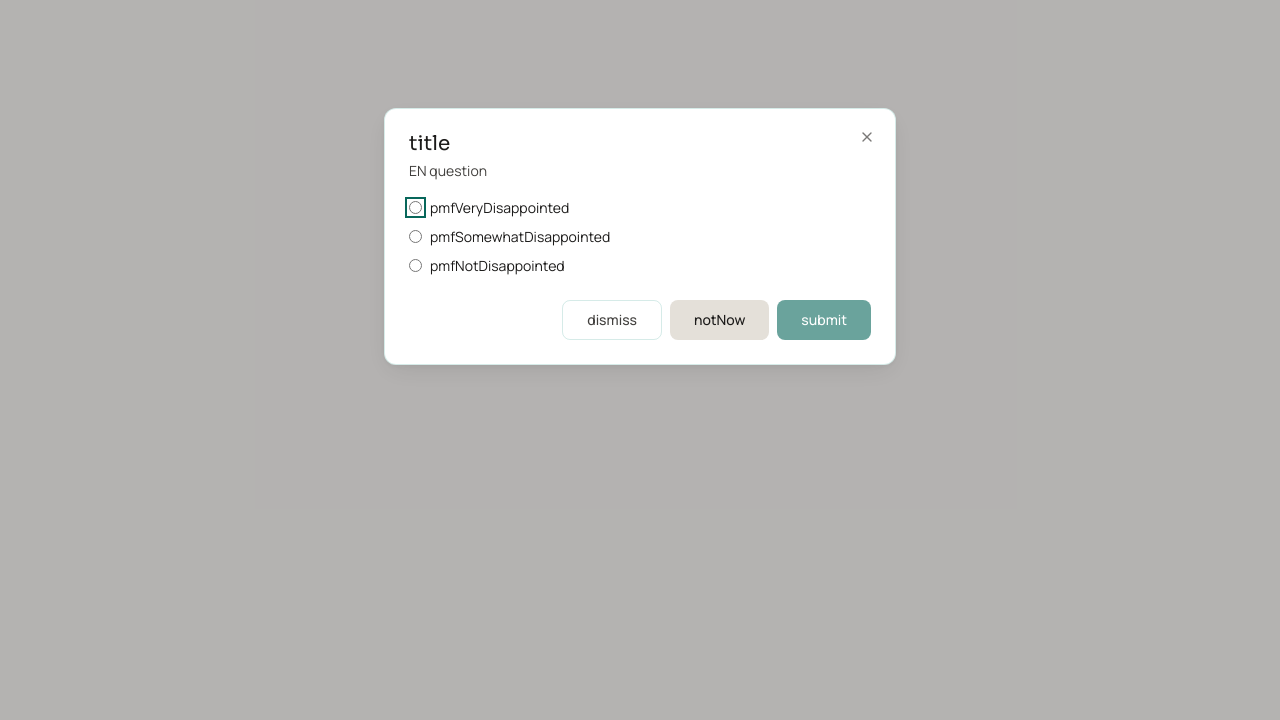
Test: SurveyInvitationPrompt › chains into the next pending invitation after submit (#444 follow-up)
This screenshot has width=1280, height=720.
Check: the text "EN question" is shown, box x1=409 y1=161 x2=487 y2=180
Click the radio button labelled "pmfVeryDisappointed". click: click(416, 208)
box: x1=409 y1=201 x2=422 y2=214
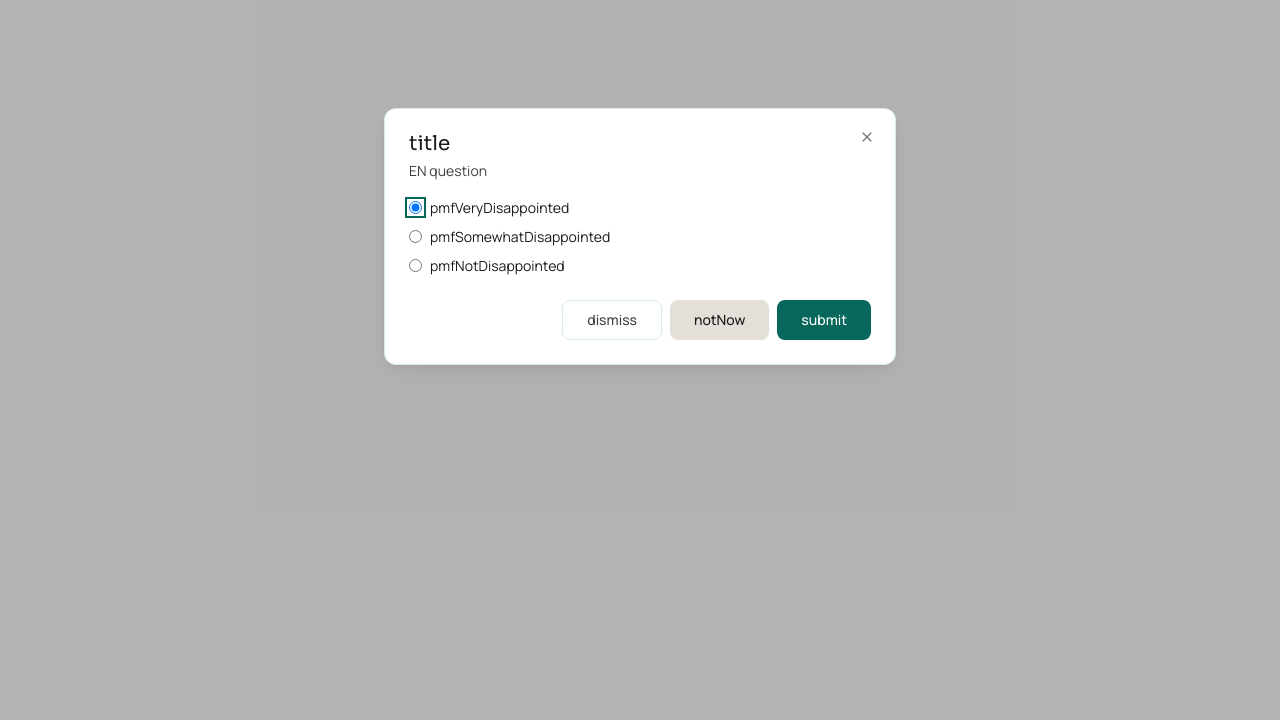
Click the button "submit". click: click(824, 320)
box: x1=777 y1=300 x2=871 y2=340
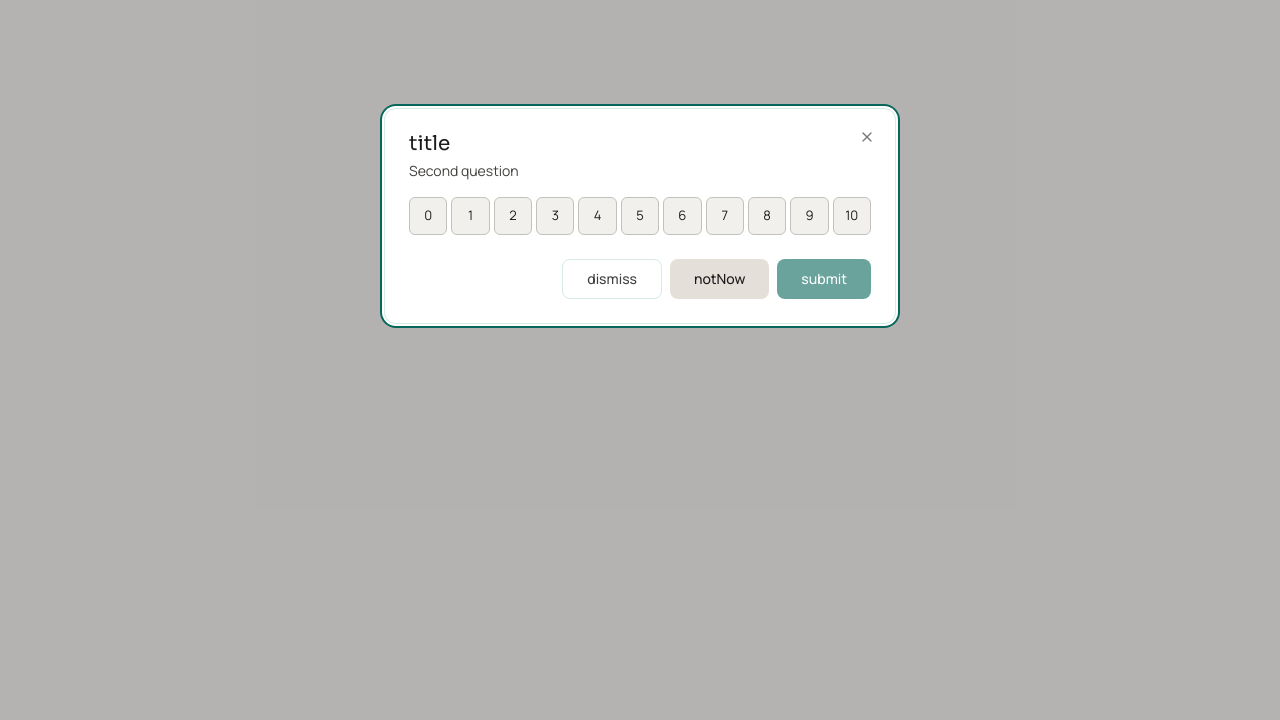
Check: the text "Second question" is shown, box x1=409 y1=161 x2=519 y2=180
